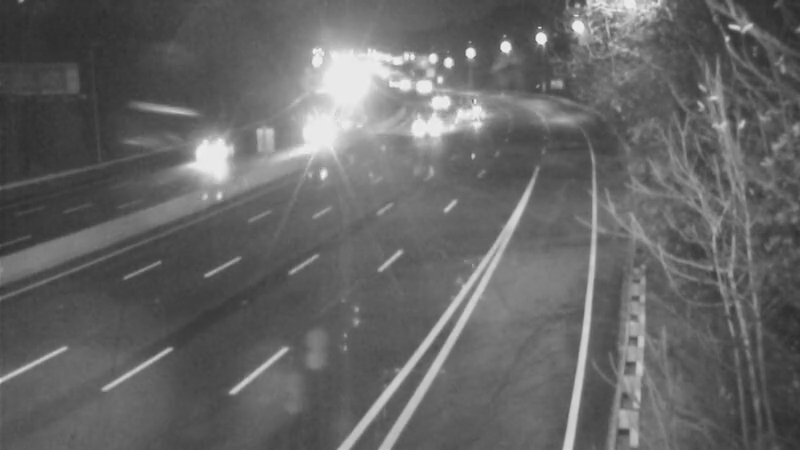vehicle: (161, 121, 241, 201), (449, 84, 499, 134), (411, 97, 461, 147), (290, 113, 340, 163)
